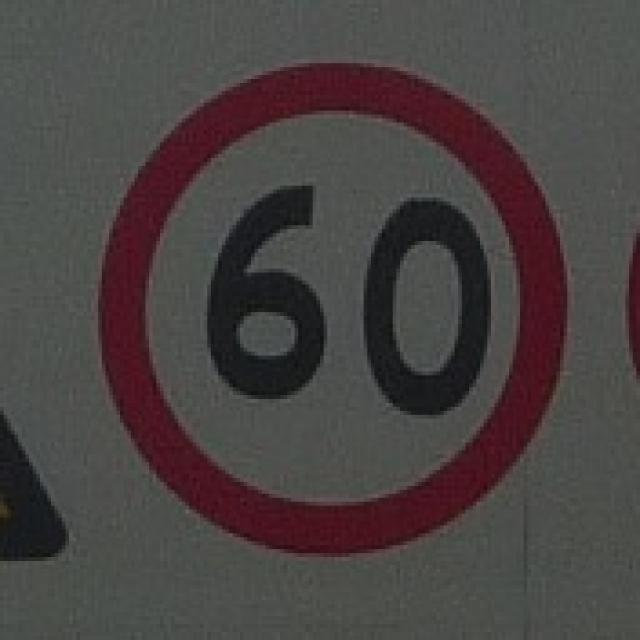Speed Limit -60-: (204, 179, 502, 418)
